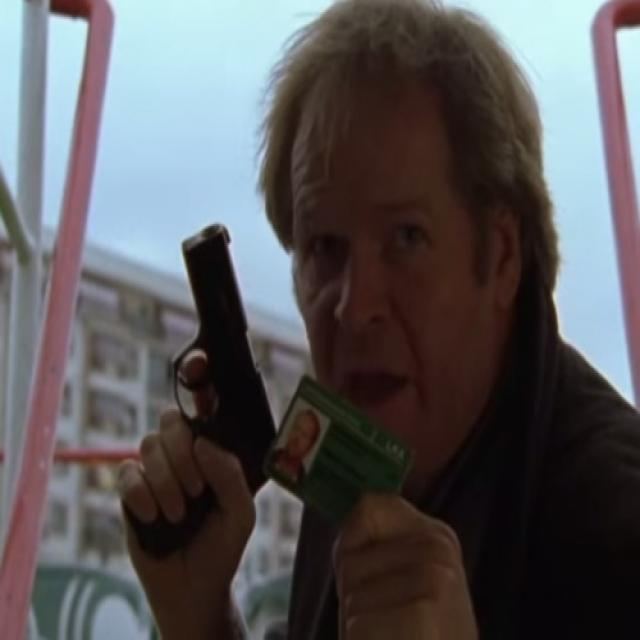weapons: (143, 193, 279, 562)
